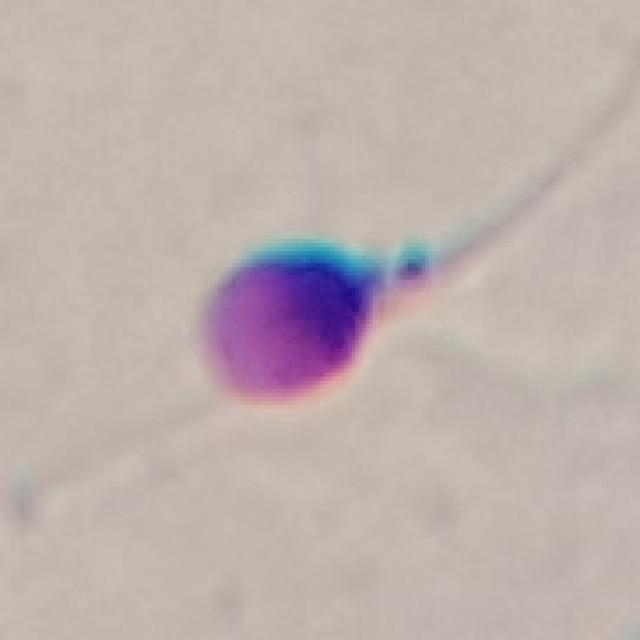normal sperm: (202, 218, 494, 400)
